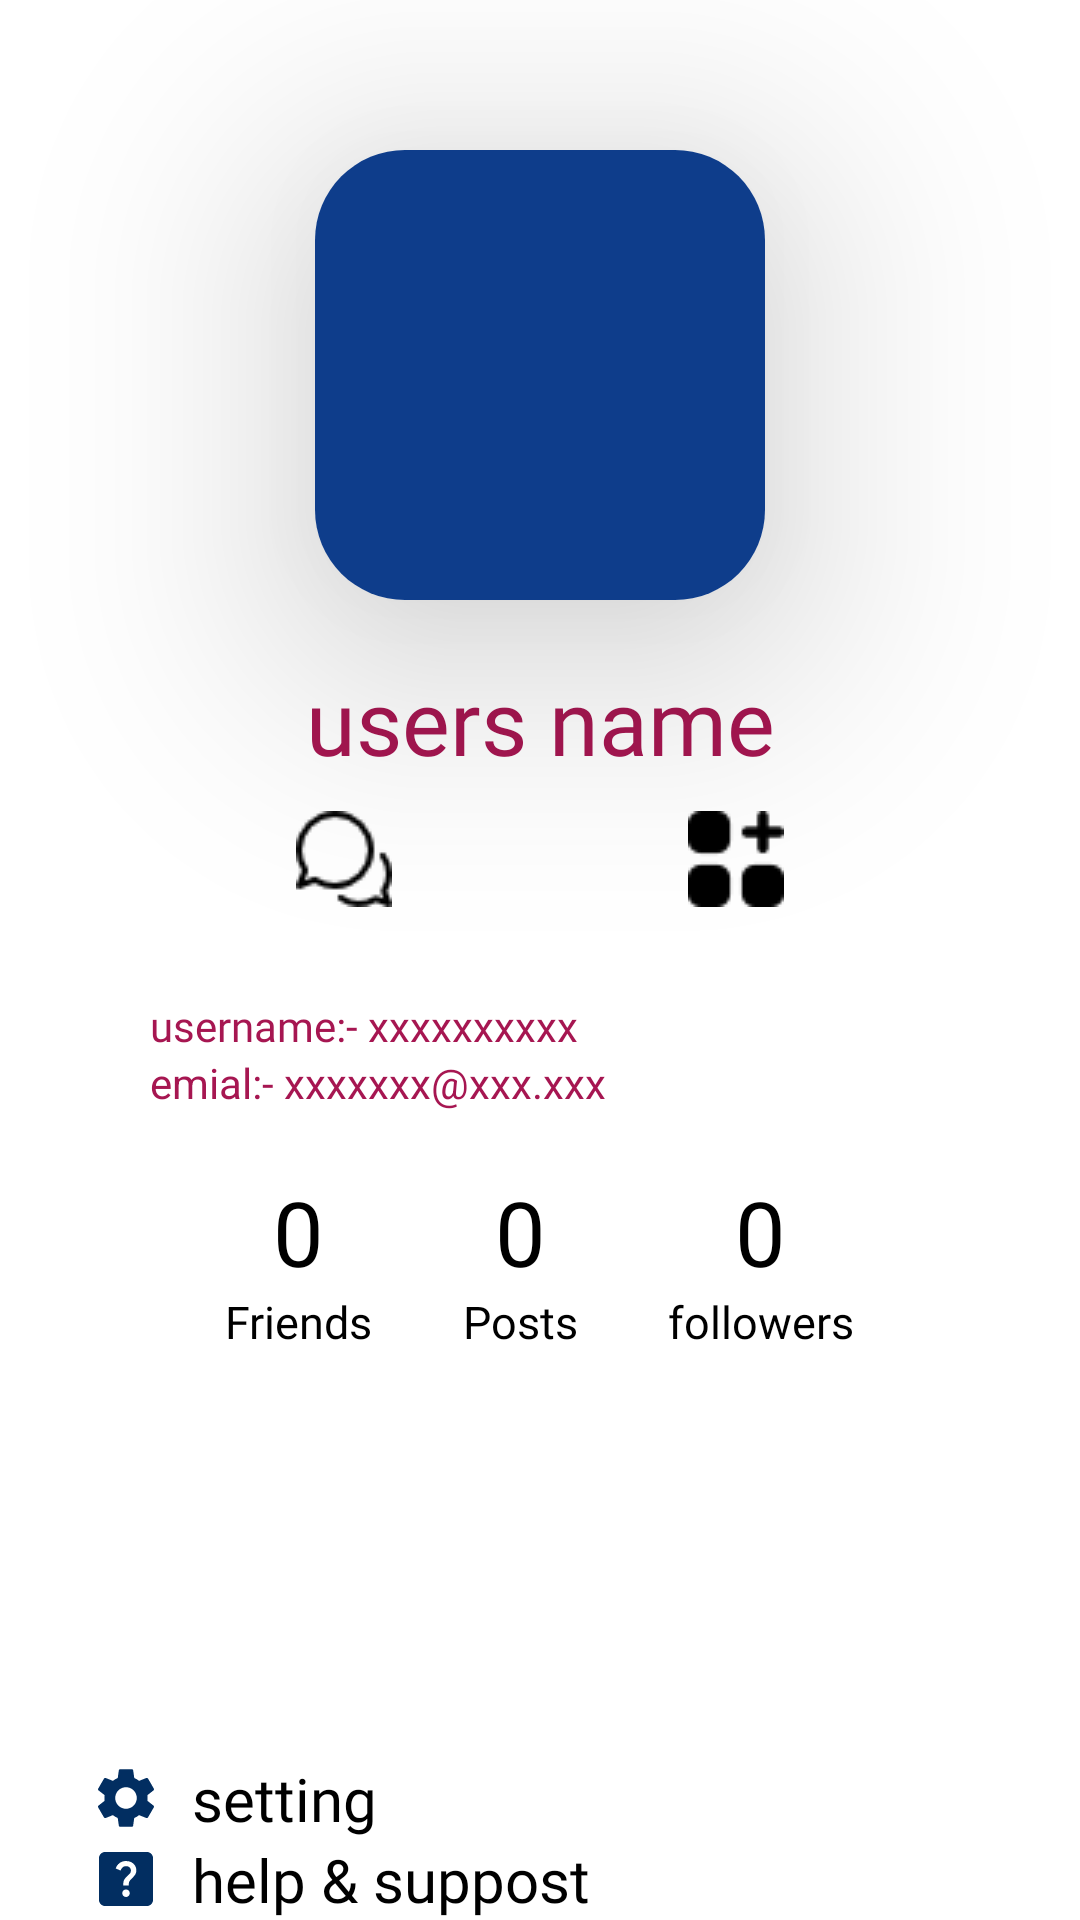

Icons on this 1080px x 1920px Android screen, each with the point to tap as [x,y]:
chat: [344,859]
more: [736,859]
